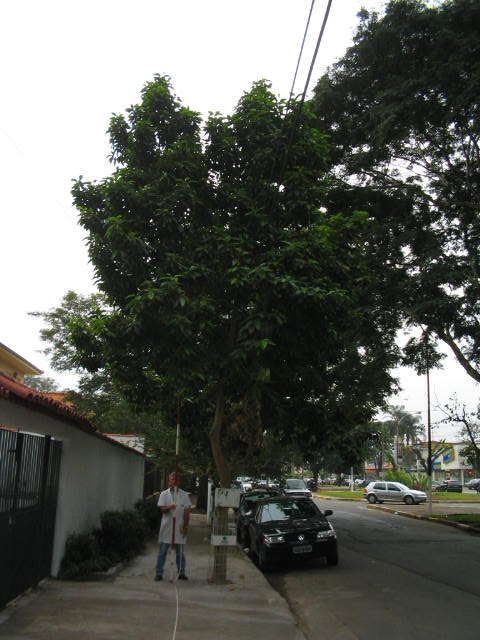crown: (67, 72, 375, 467)
stem: (196, 473, 248, 584)
stick: (164, 395, 187, 582)
tree: (64, 70, 378, 587)
